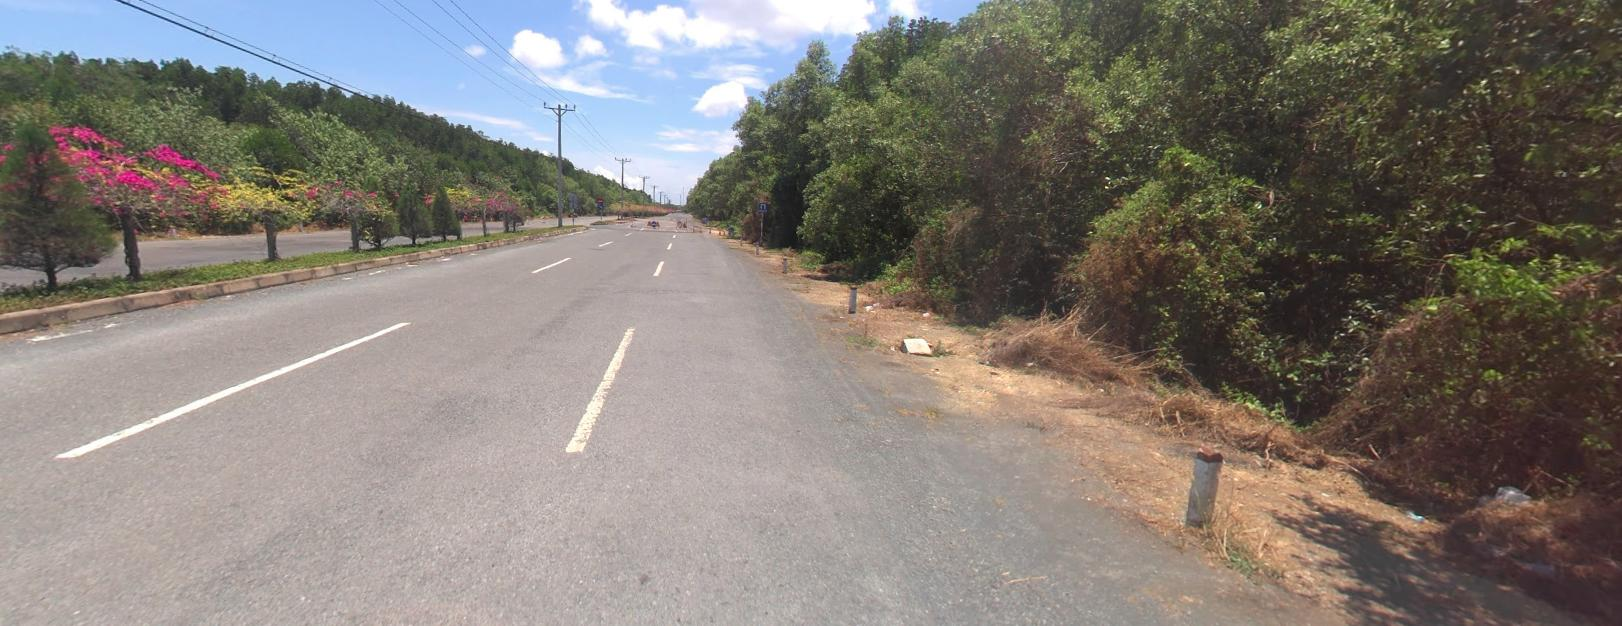Cam con lai: (677, 220, 681, 226)
Cam nguoc chieu: (597, 197, 602, 201)
Hieu lenh: (597, 203, 603, 208), (651, 219, 655, 224)
Nguy hiem: (655, 219, 659, 225), (682, 220, 686, 226), (646, 219, 650, 224)
